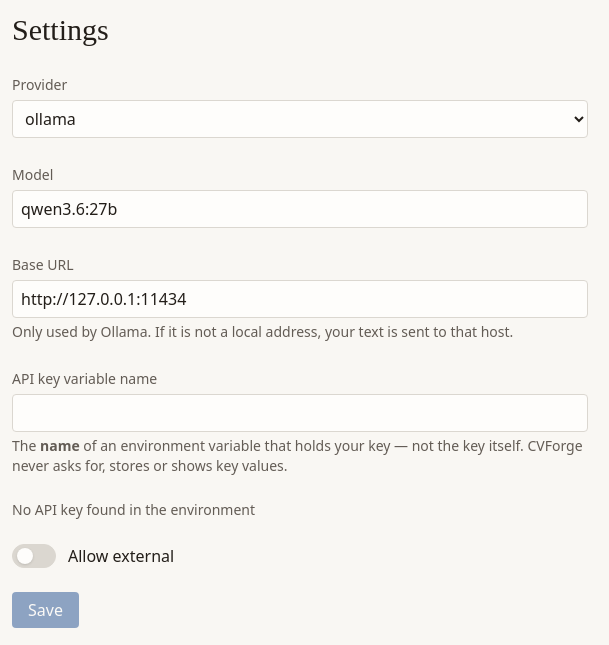
Scenario: SettingsPage › round-trips the whole object, including fields the form does not expose
Replace the text in the field labelled "Model" with "llama3". click: (300,209)
box: [12, 190, 588, 228]
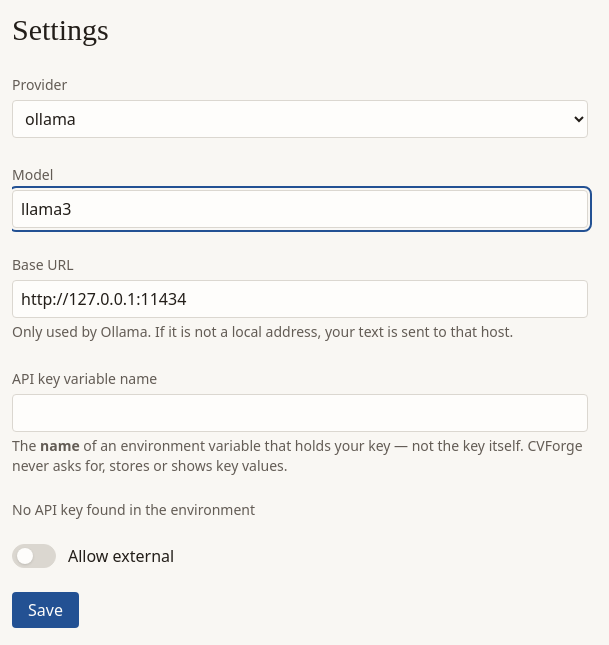
Click the button "Save". click: (45,610)
box: [12, 592, 79, 628]
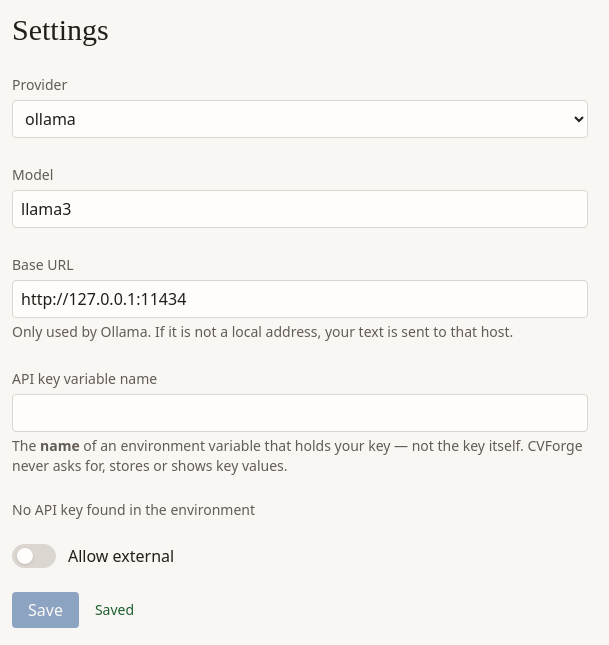
Now the message "Saved" is shown, box [95, 600, 134, 620]
